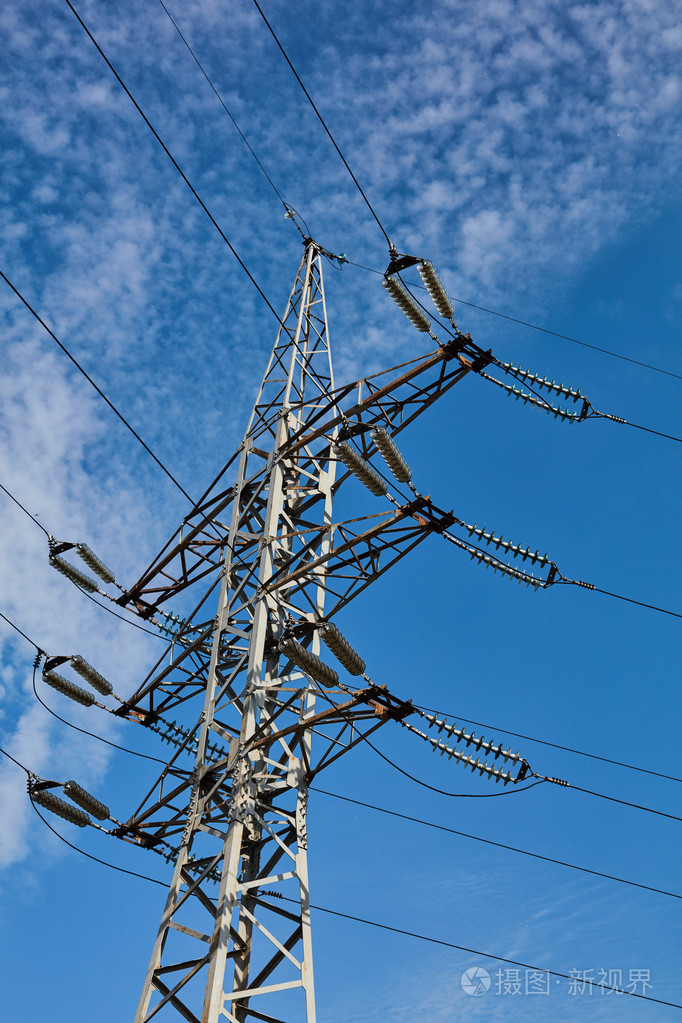insulator: (428, 713, 519, 787), (468, 524, 548, 592), (505, 363, 584, 424), (40, 656, 112, 708), (32, 782, 112, 825), (46, 543, 115, 591), (272, 639, 337, 687), (333, 439, 389, 494), (312, 619, 366, 674), (383, 272, 430, 334), (372, 423, 410, 482), (422, 262, 455, 318)
